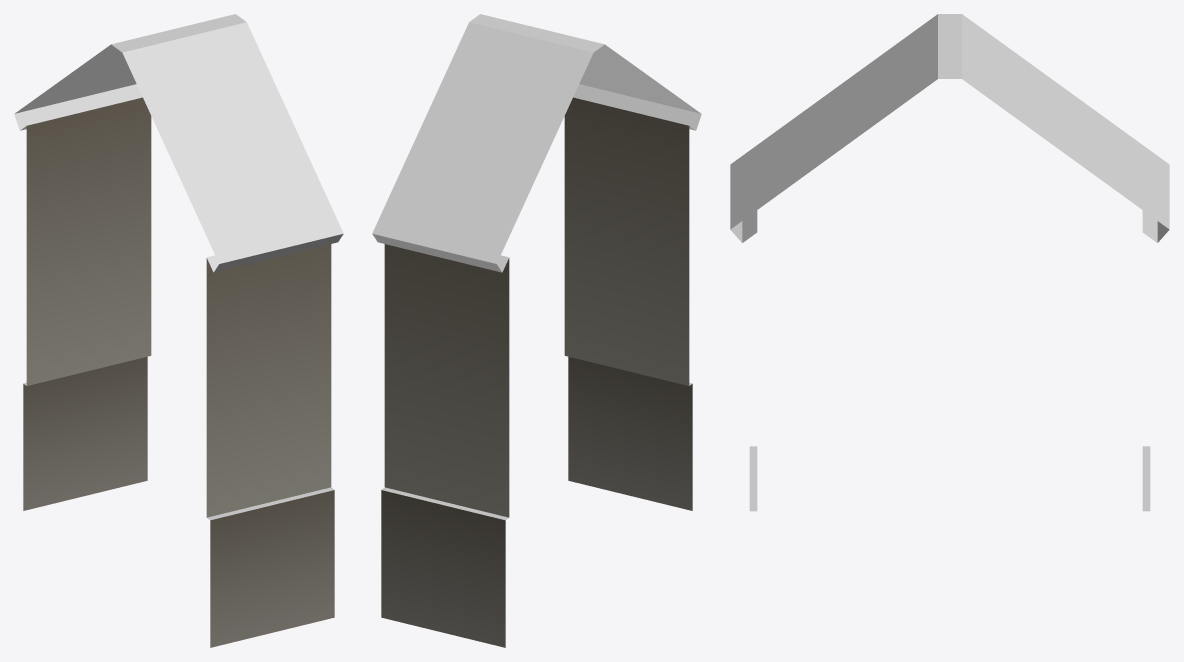
File: Buffer_1.fbx
3 views of the same model, side by side, from view 1: azimuth 30°, elevation 25°; view 2: azimuth 150°, elevation 25°; view 3: azimuth 270°, elevation 25° (orthographic). The views are drawn at different scales.
Parts seen in each view (by area): view 1: Buffer-1Story_A.003, Buffer-1Story_A.002, Buffer-1Story_A.006, Buffer-1Story_A.008, Buffer-1Story_A.005, Buffer-1Story_A.007, Buffer-1Story_A.004; view 2: Buffer-1Story_A.003, Buffer-1Story_A.002, Buffer-1Story_A.006, Buffer-1Story_A.008, Buffer-1Story_A.005, Buffer-1Story_A.007, Buffer-1Story_A.004; view 3: Buffer-1Story_A.006, Buffer-1Story_A.005, Buffer-1Story_A.007, Buffer-1Story_A.004, Buffer-1Story_A.009.
Boxes of the visible parts, x1,y1,x2,y2 form: Buffer-1Story_A.003: (26,97,331,517); Buffer-1Story_A.002: (23,356,334,647); Buffer-1Story_A.006: (21,22,336,248); Buffer-1Story_A.008: (14,84,343,272); Buffer-1Story_A.005: (15,81,343,263); Buffer-1Story_A.007: (111,14,246,52); Buffer-1Story_A.004: (23,382,334,520); Buffer-1Story_A.003: (384,97,689,517); Buffer-1Story_A.002: (381,356,692,647); Buffer-1Story_A.006: (379,22,694,248); Buffer-1Story_A.008: (372,84,701,272); Buffer-1Story_A.005: (372,81,700,263); Buffer-1Story_A.007: (469,14,604,52); Buffer-1Story_A.004: (381,382,692,520); Buffer-1Story_A.006: (745,14,1154,218); Buffer-1Story_A.005: (730,154,1169,229); Buffer-1Story_A.007: (938,14,961,78); Buffer-1Story_A.004: (749,446,1150,511); Buffer-1Story_A.009: (742,210,1157,242).
Size of the model in its own units: 200 by 815 by 570.
